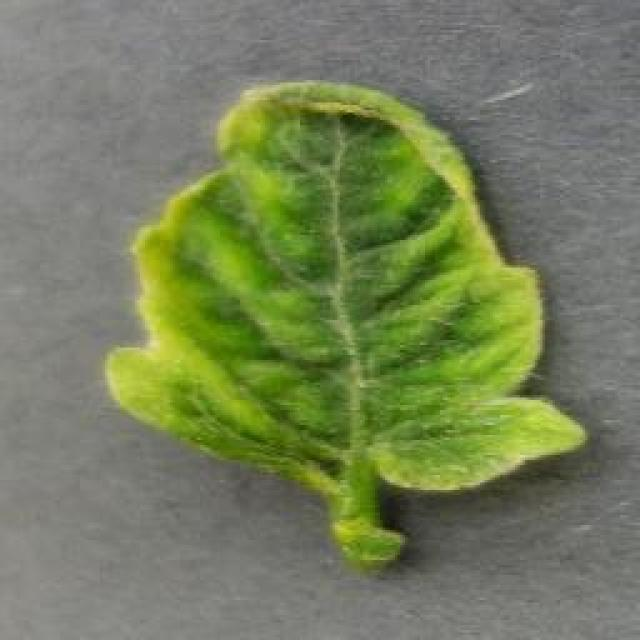Tomato yellow virus leaf: (104, 68, 586, 502)
